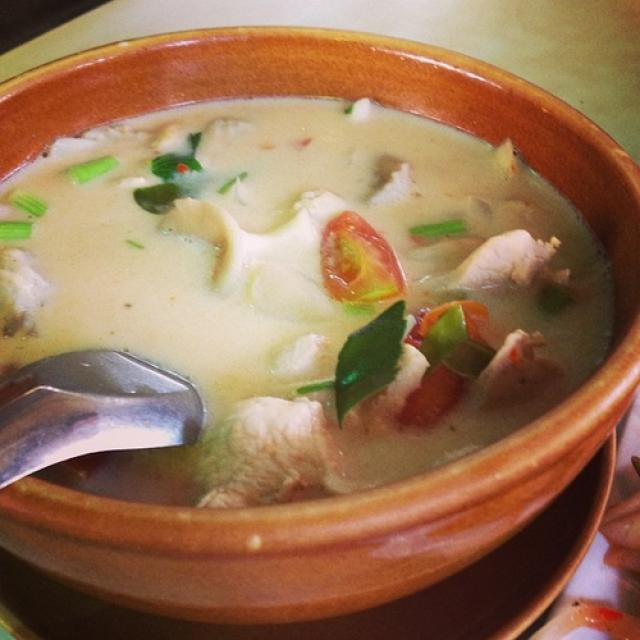汤锅炖物: (13, 47, 609, 544)
